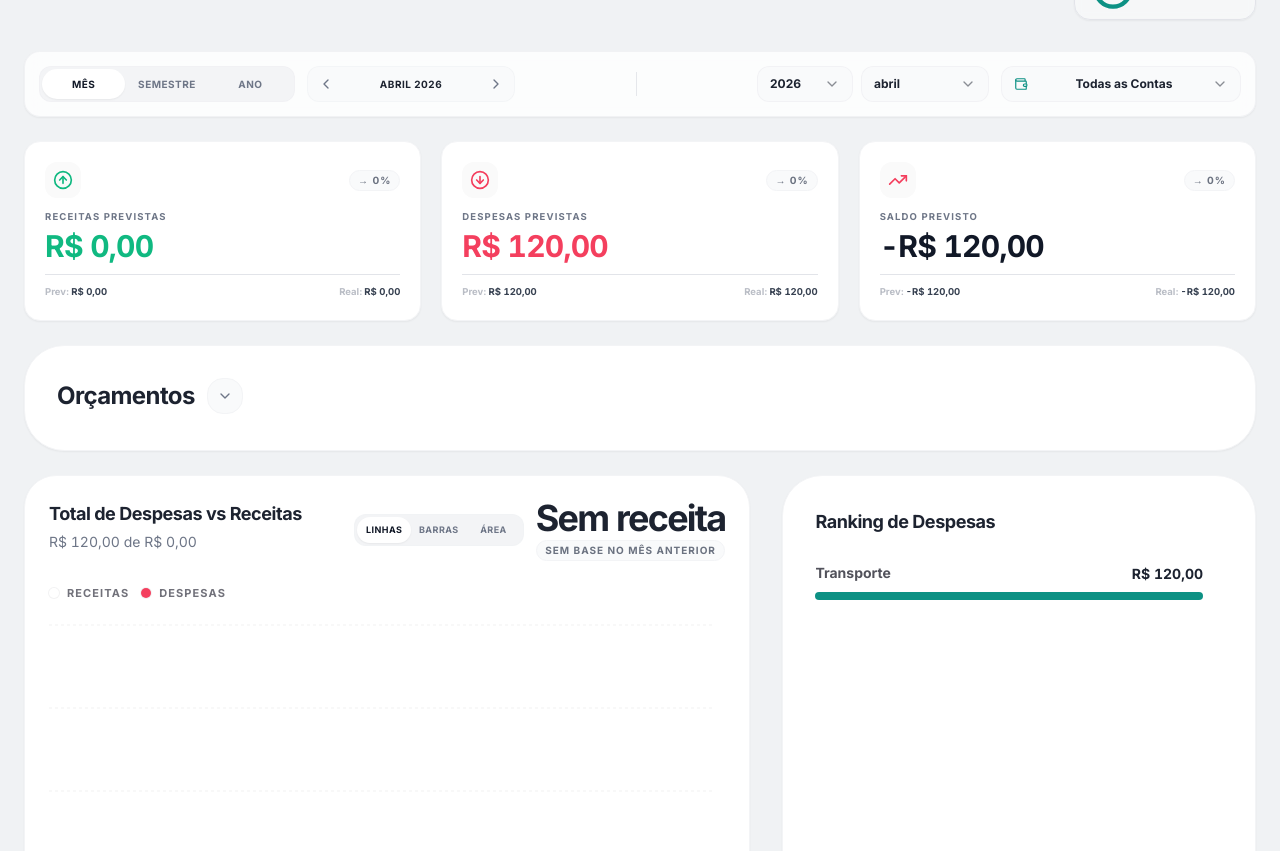
Test: ReportsDashboard - categoria de acordo › permite clicar novamente na mesma categoria para limpar a Analise de Categoria
Click the button with test id "category-ranking-bar-". click: (853,572)
box: [807, 556, 1211, 608]
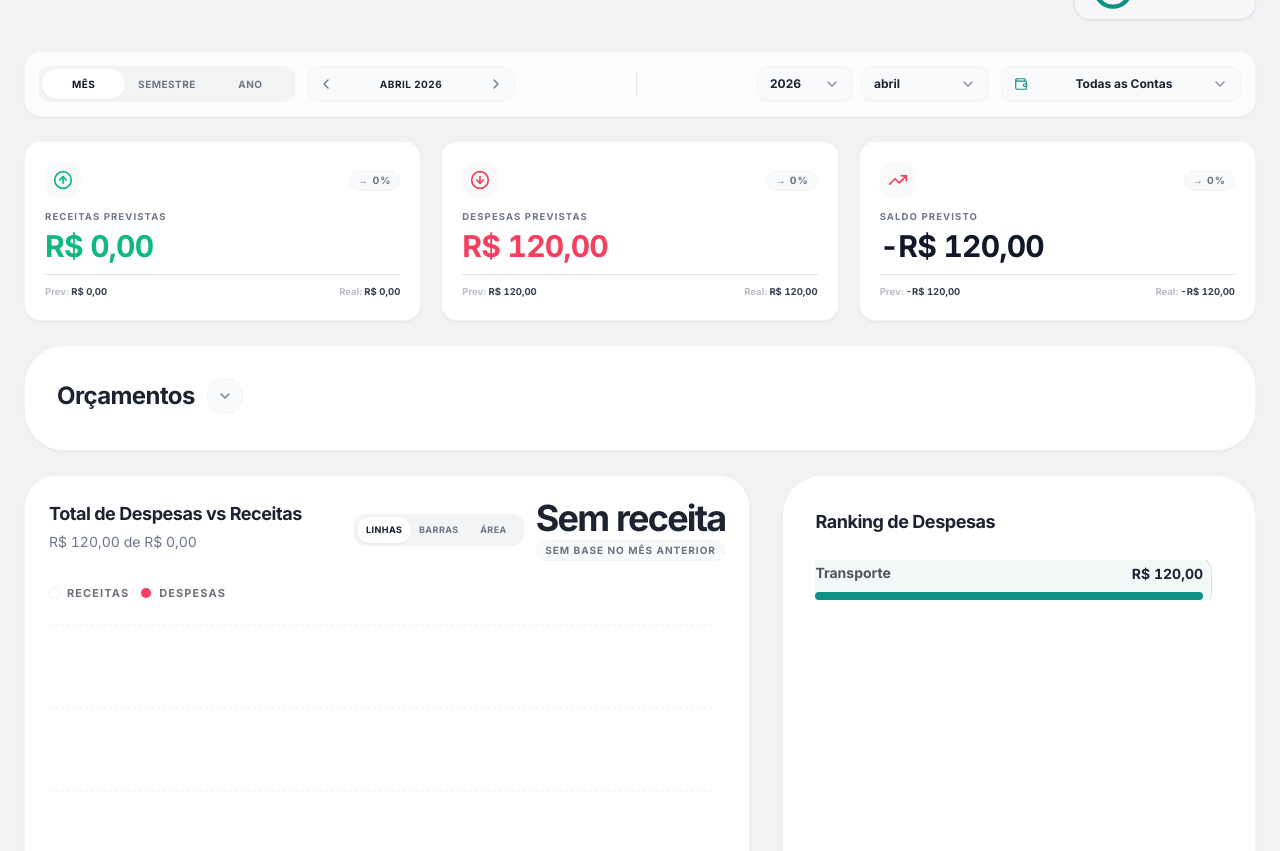
Click the button with test id "category-ranking-bar-". click: (853,572)
box: [807, 556, 1211, 608]
(page scrolled)
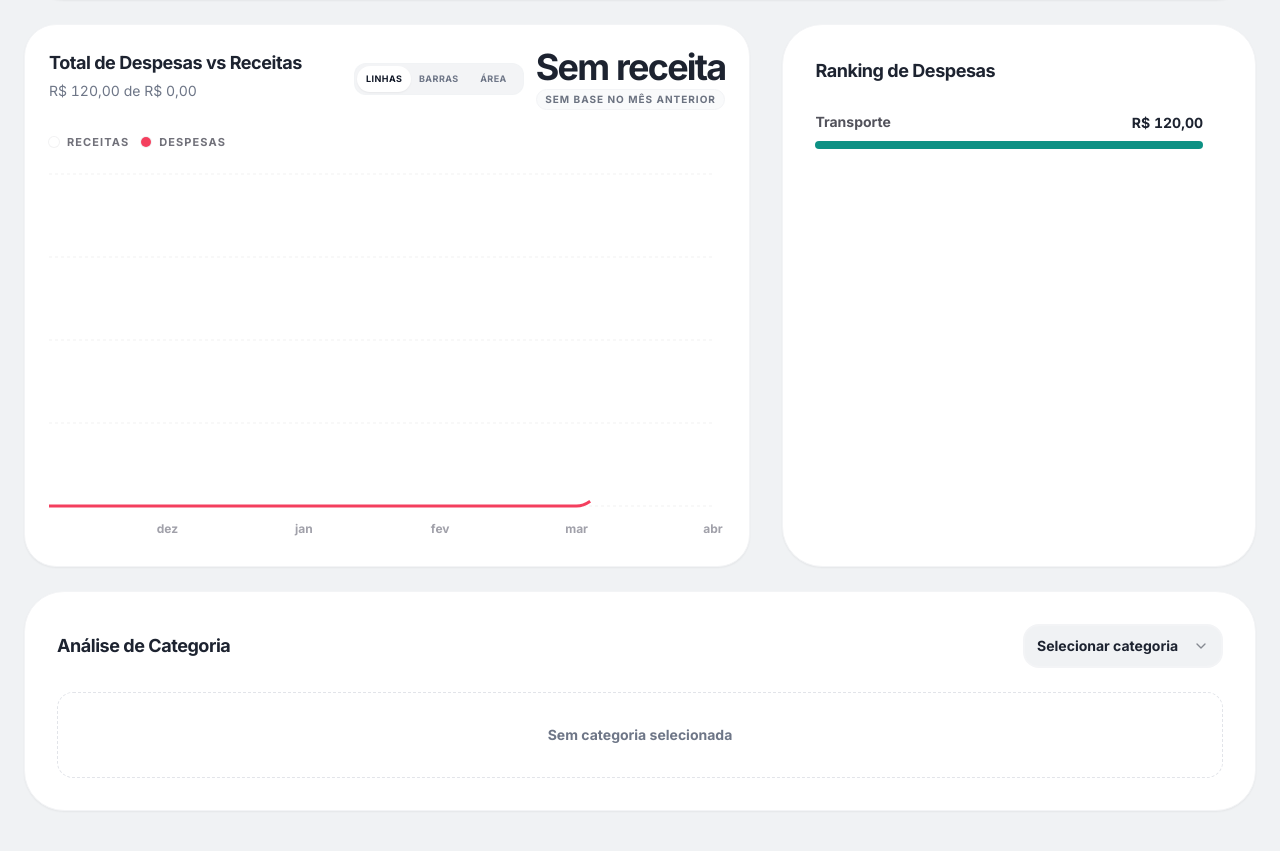
Result: the text "Sem categoria selecionada" is shown at [57, 692, 1223, 778]
